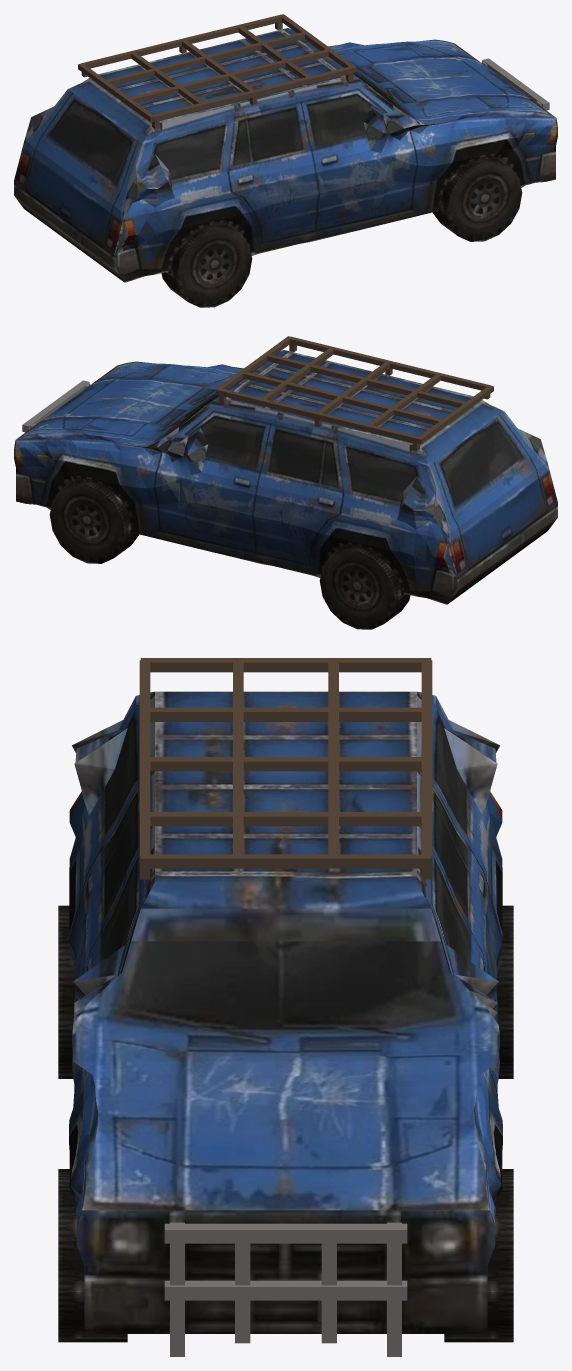
The model's file is iceberg.glb.
3 renders of one model, top to bottom at view 1: azimuth 30°, elevation 25°; view 2: azimuth 150°, elevation 25°; view 3: azimuth 270°, elevation 25°, orthographic. The views are drawn at different scales.
Visible parts, largest first — view 1: iceberg; view 2: iceberg; view 3: iceberg.
Boxes of the visible parts, x1,y1,x2,y2 form: iceberg: (14, 14, 557, 307); iceberg: (14, 336, 557, 629); iceberg: (58, 658, 513, 1356).
Size of the model in its own units: 4.85 by 1.89 by 2.1.
Materials: 1 (1 with a texture image).
